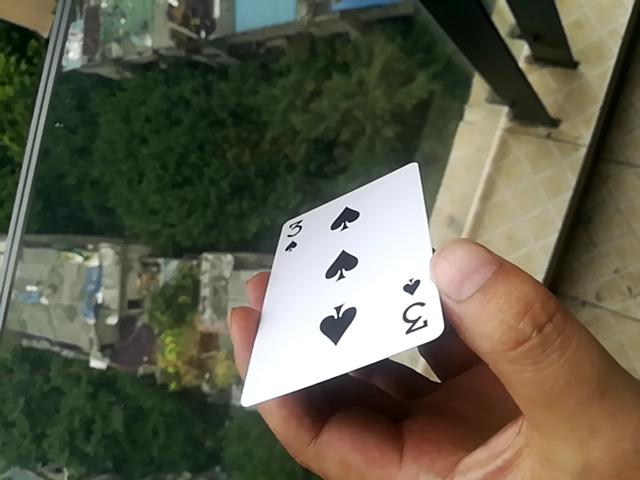ht 3: (235, 160, 443, 411)
